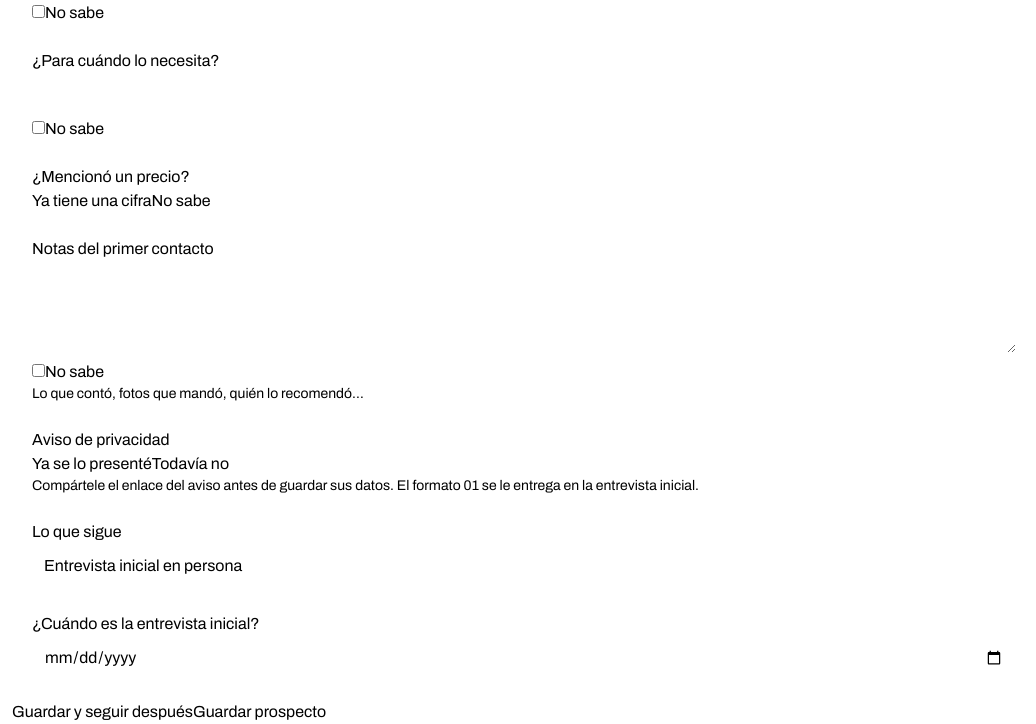
Test: el prospecto pide lo básico del primer contacto y deja lo demás para la entrevista inicial
(page scrolled)
Expected: the date field labelled "¿Cuándo es la entrevista inicial?" is shown, 32,636 -> 1016,680
Expected: the field labelled "Lo que sigue" holds "Entrevista inicial en persona", 32,544 -> 1016,588
Click the button "Guardar prospecto" at (268, 712), box 193,700 -> 342,723
(page scrolled)
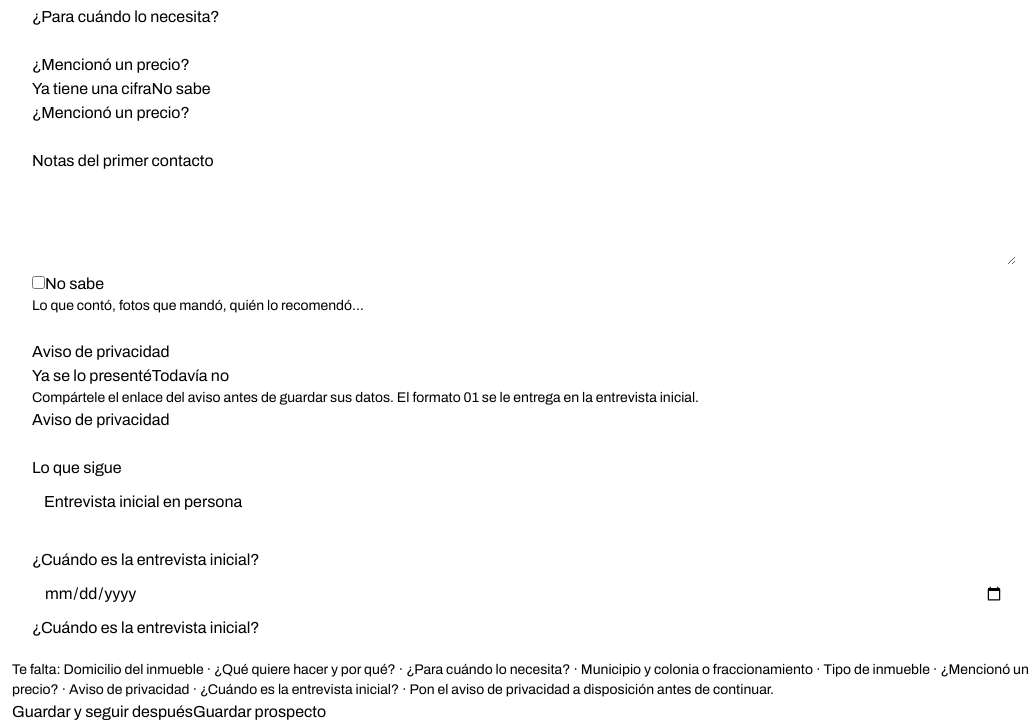
Expected: the message shows "Domicilio del inmueble", 12,662 -> 1029,697
